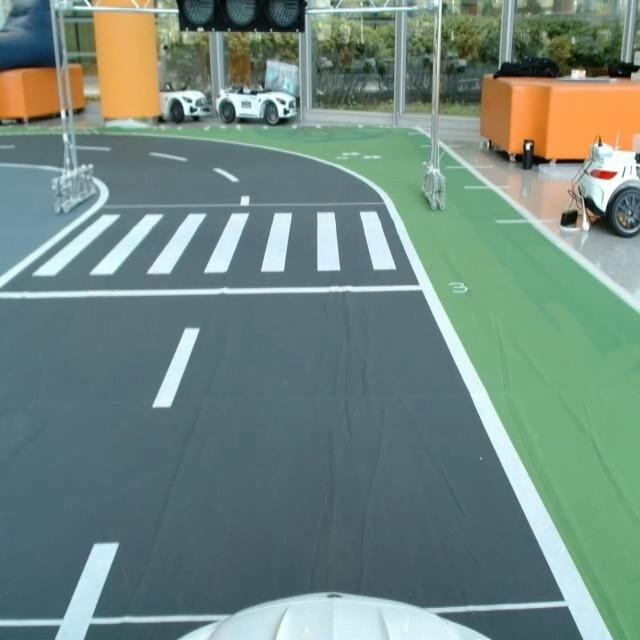traffic-light: (175, 0, 312, 36)
